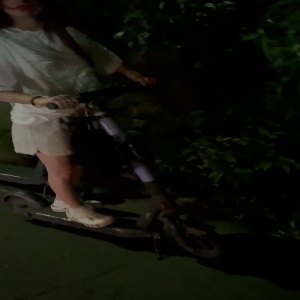human on a scooter: (1, 1, 227, 264)
